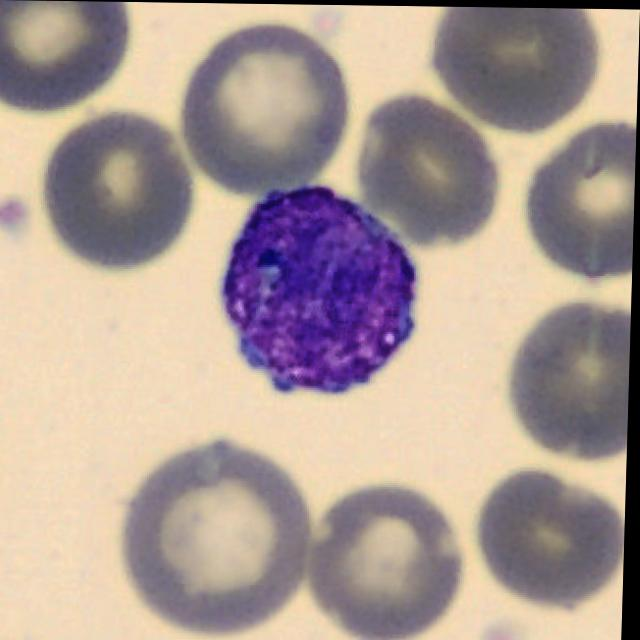Linfocito: (223, 182, 420, 393)
